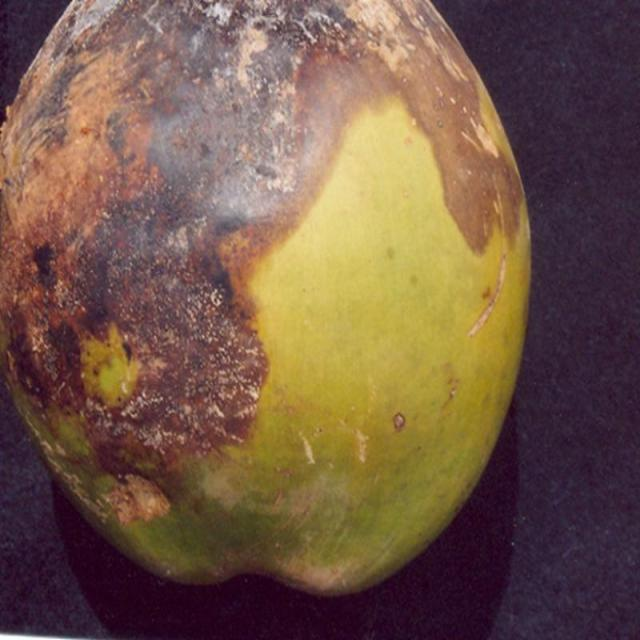damaged: (0, 0, 530, 593)
